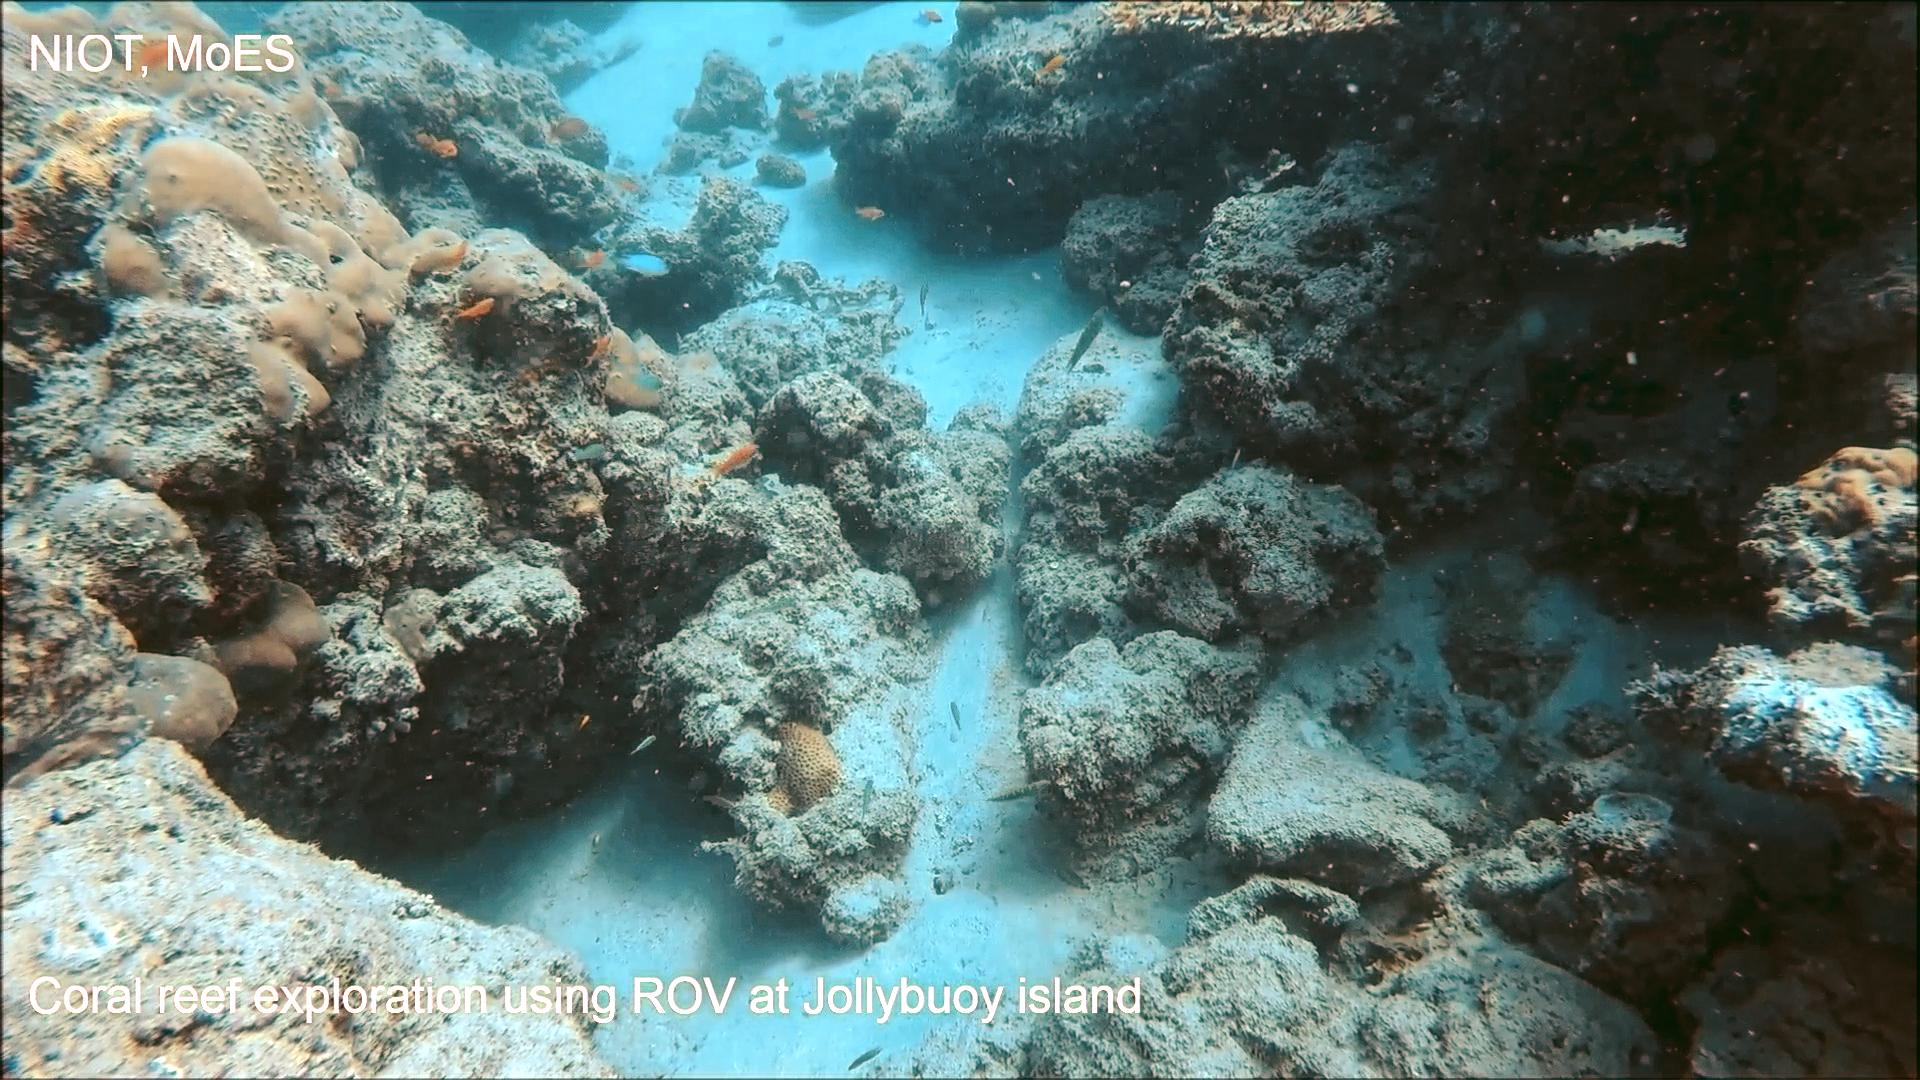Porites-Porites pukoensis: (78, 0, 465, 430)
